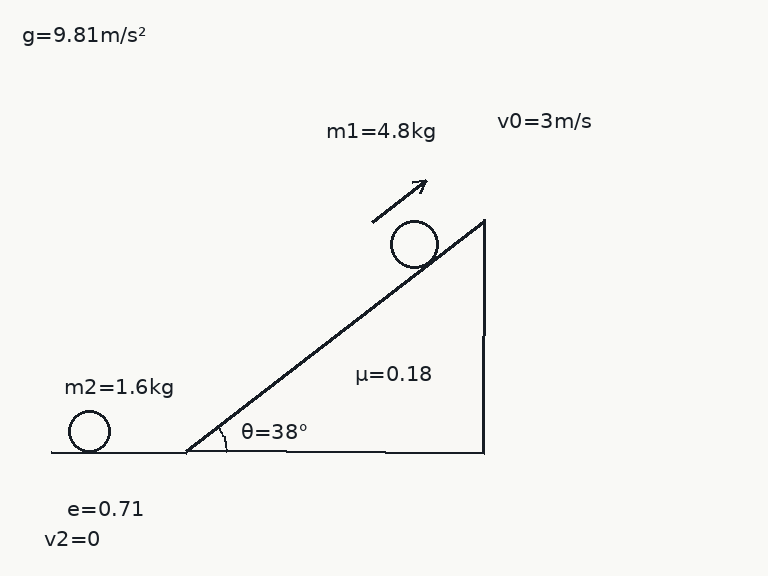ball: (388, 218, 440, 270), (66, 408, 112, 454)
ramp: (185, 218, 486, 454)
